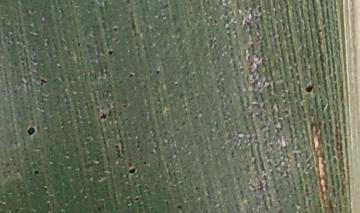tarspot: (304, 83, 315, 94), (26, 126, 36, 137), (39, 77, 48, 87), (127, 166, 137, 175), (127, 71, 136, 80), (99, 112, 107, 121), (318, 53, 325, 63), (132, 195, 140, 203), (154, 69, 162, 76), (107, 49, 114, 57), (175, 204, 183, 211), (180, 120, 187, 128), (112, 26, 119, 33), (32, 169, 39, 176), (186, 9, 193, 16), (13, 207, 20, 213), (95, 205, 102, 211), (191, 115, 198, 121), (315, 28, 323, 33), (121, 103, 129, 108), (141, 159, 147, 165), (174, 126, 180, 132), (76, 41, 81, 48), (217, 1, 224, 6), (125, 1, 131, 5)
